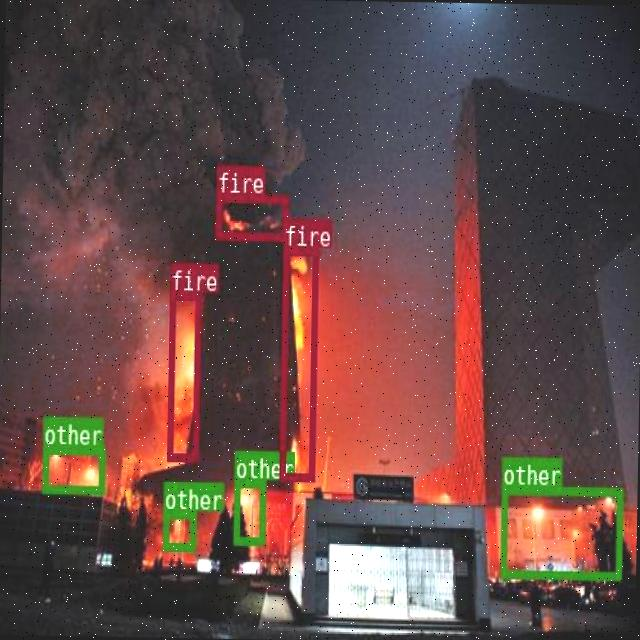fire: (278, 246, 316, 480), (166, 290, 200, 460), (215, 194, 288, 238)
